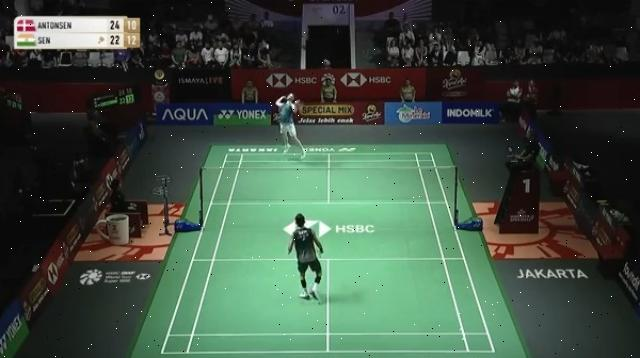Shuttlecock: (262, 39, 272, 54)
